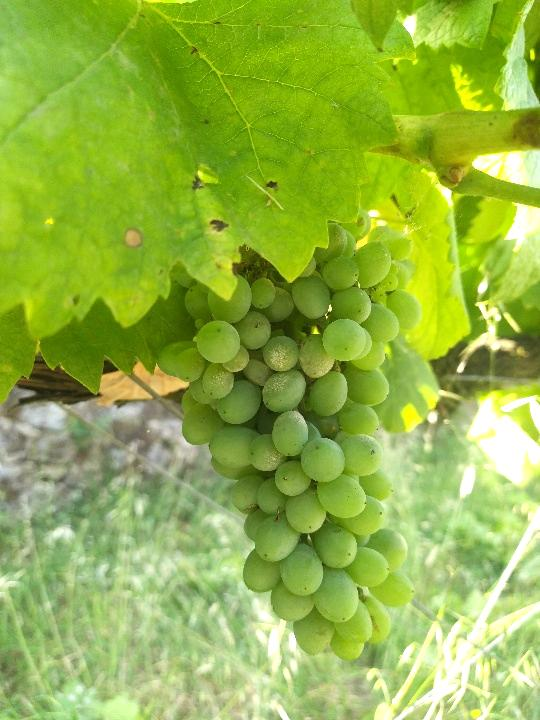grape: (156, 210, 425, 662)
